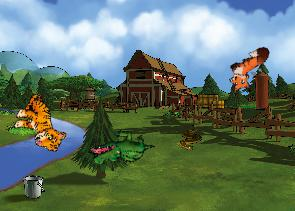crocodile: (86, 118, 155, 180)
fox: (219, 43, 281, 99)
tiger: (7, 90, 76, 155)
